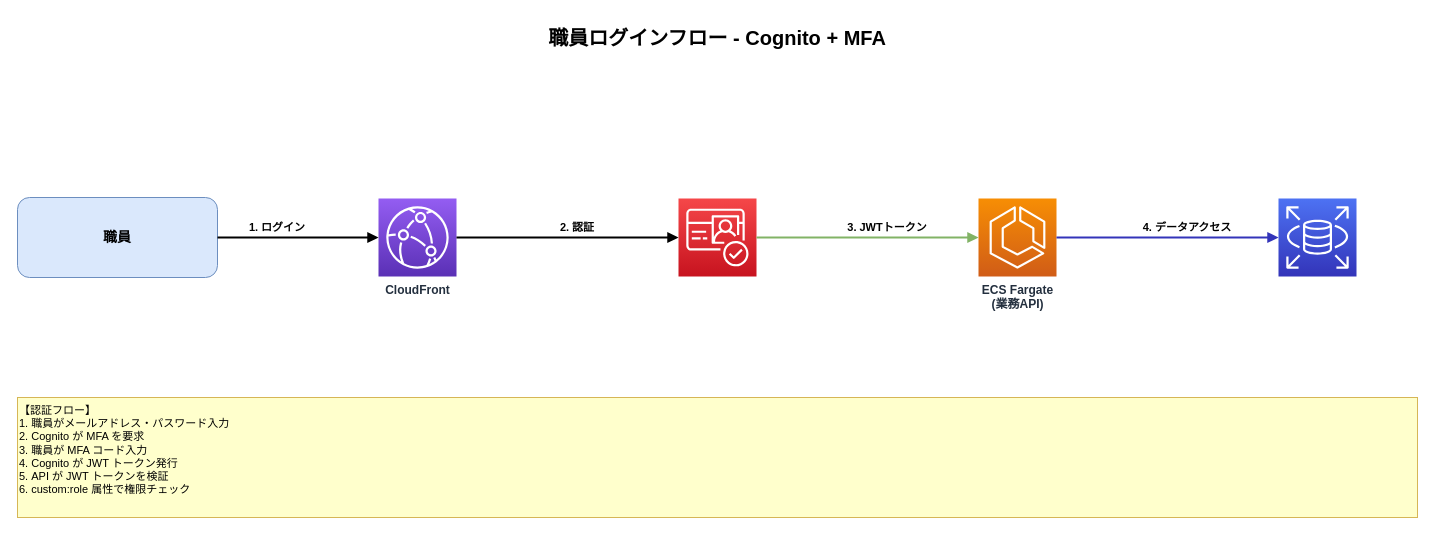
Image size: 1435x535. Some labels were removed from this diagram. Here are the shapes that lost their labels. From the top down, the box of each, then its label:
(678, 198, 756, 276): Cognito (職員用)
(1278, 198, 1356, 276): RDS PostgreSQL
